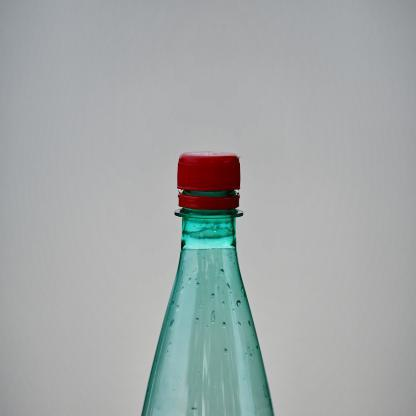bottle: (122, 137, 280, 416)
